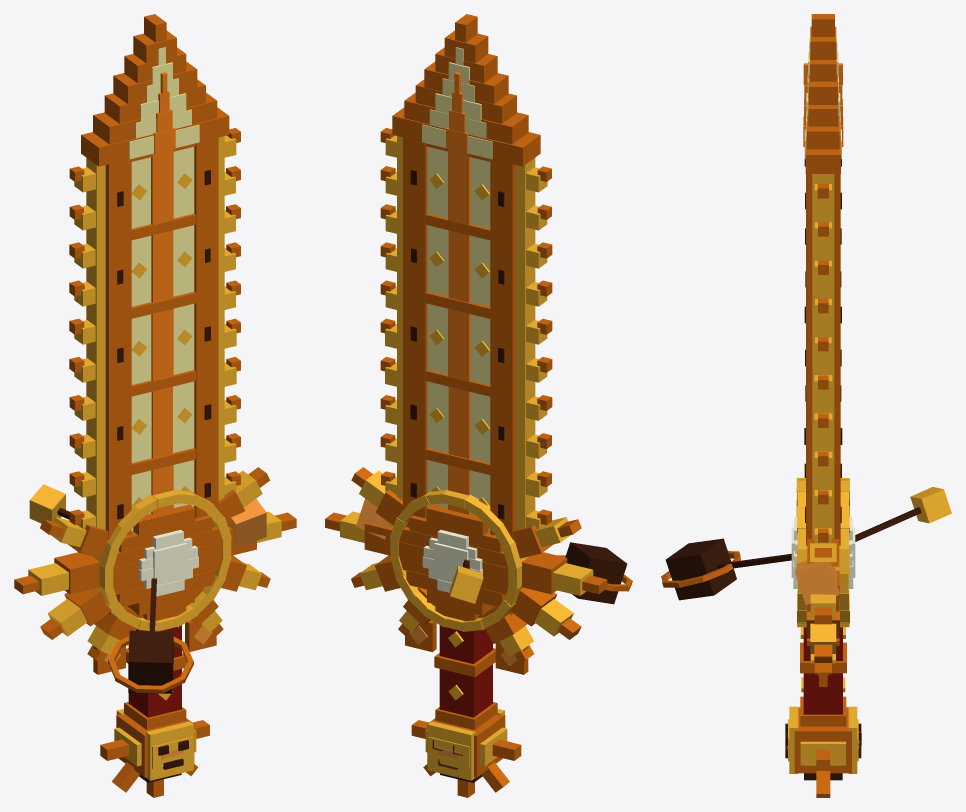
The model's file is solaris.obj.
3 views of the same model, side by side, from view 1: azimuth 30°, elevation 25°; view 2: azimuth 150°, elevation 25°; view 3: azimuth 270°, elevation 25° (orthographic).
Parts seen in each view (by area): view 1: blade_center_93, rail_L_79, rail_R_86, rail_L_80, rail_R_87, planet_2_137, blade_tip_115, blade_center_98, blade_center_96, blade_center_97, blade_tip_116, blade_center_95 (+40 smaller); view 2: blade_center_93, rail_L_79, rail_R_86, rail_L_80, grip_1, rail_R_87, planet_2_137, blade_tip_115, blade_center_98, blade_center_96, blade_center_97, blade_center_95 (+42 smaller); view 3: rail_R_86, rail_R_87, planet_2_137, grip_1, pommel_7, planet_0_133, planet_1_135, blade_tip_115, pommel_8, blade_tip_116, grip_4, blade_tip_118 (+6 smaller).
Part boxes in pixels (left/top/right/bottom): blade_center_93: left=131, top=147, right=194, bottom=531; rail_L_79: left=105, top=159, right=131, bottom=539; rail_R_86: left=194, top=137, right=218, bottom=527; rail_L_80: left=86, top=158, right=105, bottom=529; rail_R_87: left=218, top=136, right=224, bottom=500; planet_2_137: left=128, top=630, right=173, bottom=693; blade_tip_115: left=81, top=107, right=229, bottom=166; blade_center_98: left=151, top=149, right=173, bottom=225; blade_center_96: left=151, top=308, right=173, bottom=381; blade_center_97: left=151, top=230, right=173, bottom=302; blade_tip_116: left=93, top=92, right=217, bottom=144; blade_center_95: left=151, top=386, right=172, bottom=458; blade_center_93: left=427, top=146, right=490, bottom=531; rail_L_79: left=490, top=159, right=515, bottom=539; rail_R_86: left=403, top=137, right=427, bottom=527; rail_L_80: left=516, top=158, right=535, bottom=529; grip_1: left=439, top=625, right=492, bottom=717; rail_R_87: left=397, top=136, right=402, bottom=500; planet_2_137: left=565, top=542, right=627, bottom=604; blade_tip_115: left=392, top=107, right=540, bottom=166; blade_center_98: left=448, top=149, right=470, bottom=225; blade_center_96: left=448, top=308, right=470, bottom=381; blade_center_97: left=448, top=230, right=470, bottom=302; blade_center_95: left=448, top=386, right=470, bottom=458; rail_R_86: left=806, top=174, right=840, bottom=545; rail_R_87: left=812, top=174, right=834, bottom=538; planet_2_137: left=665, top=538, right=736, bottom=600; grip_1: left=803, top=627, right=842, bottom=714; pommel_7: left=794, top=707, right=851, bottom=773; planet_0_133: left=795, top=560, right=840, bottom=604; planet_1_135: left=910, top=487, right=951, bottom=523; blade_tip_115: left=805, top=128, right=840, bottom=173; pommel_8: left=800, top=741, right=845, bottom=765; blade_tip_116: left=807, top=116, right=839, bottom=149; grip_4: left=800, top=696, right=846, bottom=726; blade_tip_118: left=808, top=74, right=837, bottom=104.
Size of the model in its own units: 1.88 by 5.08 by 1.72.
